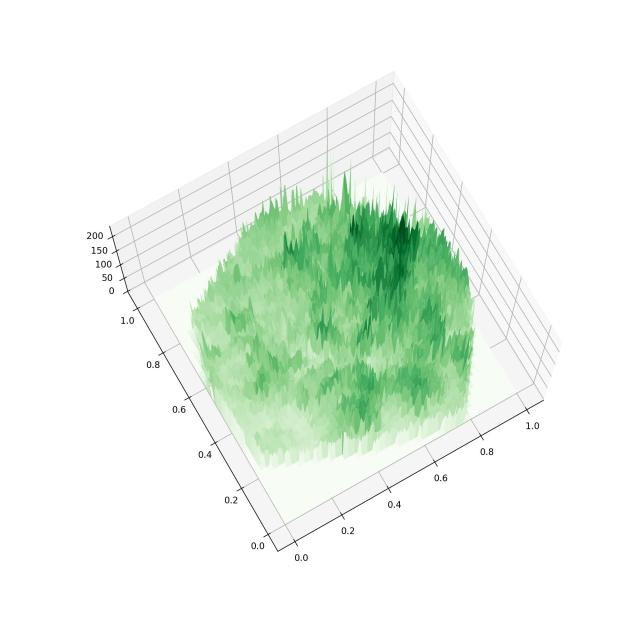fir: (70, 46, 573, 598)
